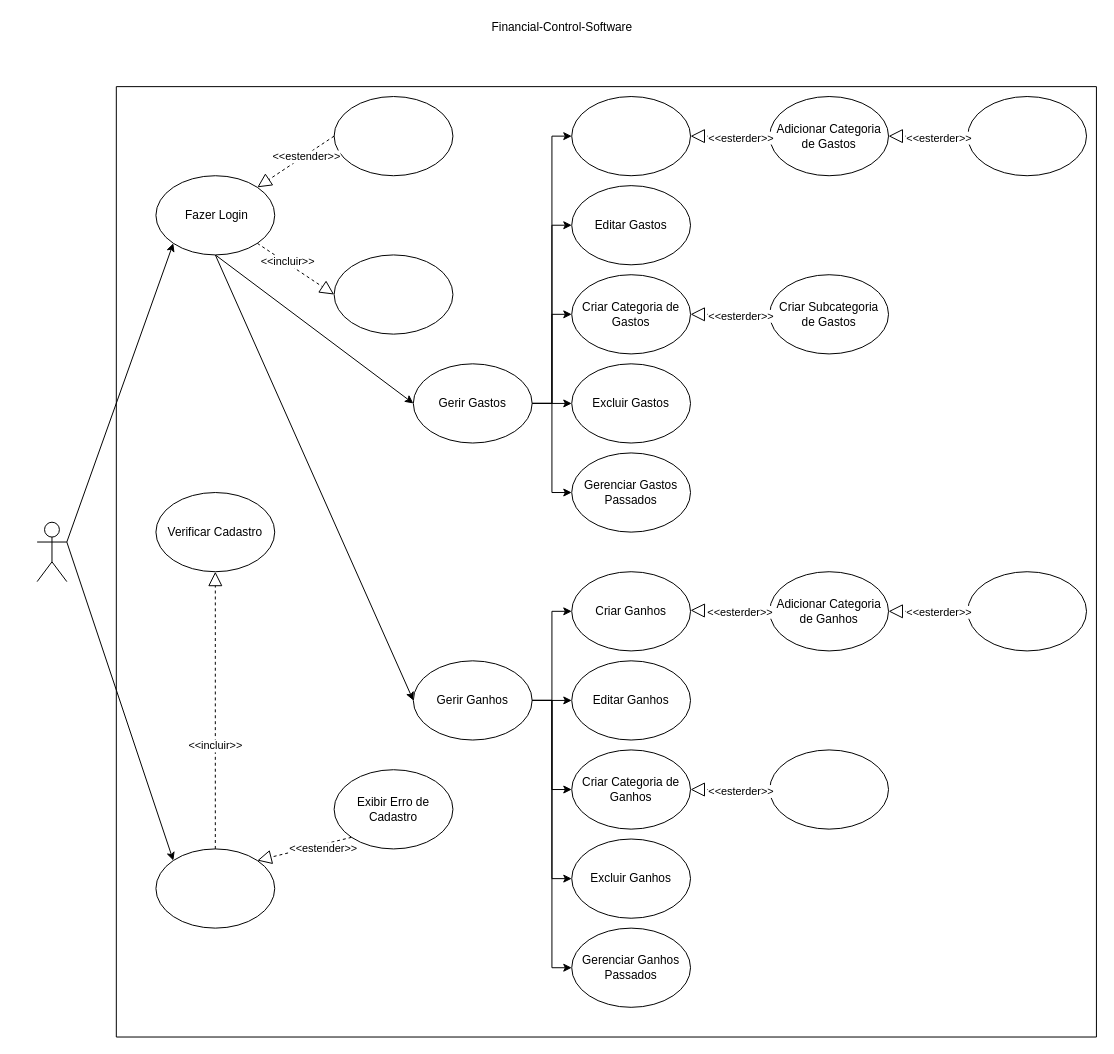
Image size: 1114x1054. Some labels were removed from this diagram. The shapes that lost their labels are listed below. From the top down, each one's centre as x and y in pixels, then its label:
point (393, 136): Exibir Erro de Login
point (631, 136): Criar Gastos
point (1027, 136): Adicionar Subcategoria de Gastos
point (393, 294): Verificar Senha
point (51, 551): adolescentes
point (1027, 611): Adicionar Subcategoria de Ganhos
point (829, 789): Criar Subcategoria de Ganhos
point (215, 888): Cadastrar
